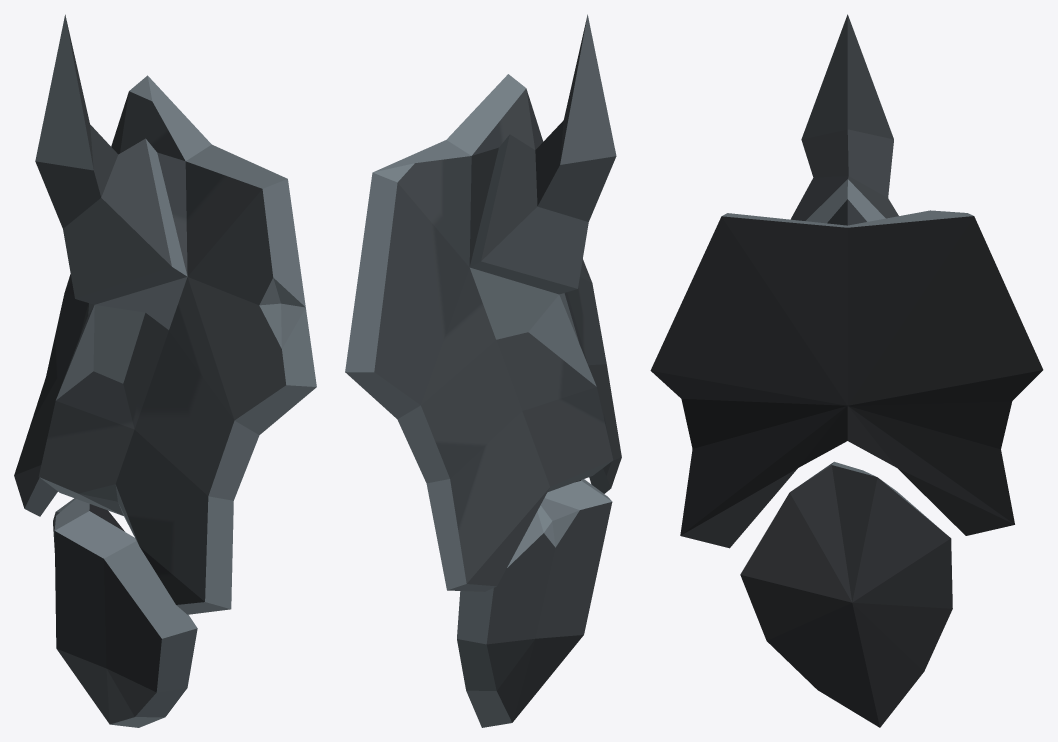
File: SM_Chr_Attach_Armour_Dark_Leg_RR_Large_01.fbx
3 renders of one model, left to right at view 1: azimuth 30°, elevation 25°; view 2: azimuth 150°, elevation 25°; view 3: azimuth 270°, elevation 25°, orthographic. The views are drawn at different scales.
Visible parts, largest first — view 1: SM_Chr_Attach_Armour_Dark_Leg_RR_Large_01; view 2: SM_Chr_Attach_Armour_Dark_Leg_RR_Large_01; view 3: SM_Chr_Attach_Armour_Dark_Leg_RR_Large_01.
Part boxes in pixels (<box>): SM_Chr_Attach_Armour_Dark_Leg_RR_Large_01: <box>14,14,316,727</box>; SM_Chr_Attach_Armour_Dark_Leg_RR_Large_01: <box>345,14,621,727</box>; SM_Chr_Attach_Armour_Dark_Leg_RR_Large_01: <box>650,14,1043,727</box>.
Size of the model in its own units: 11.29 by 44.24 by 23.38.
